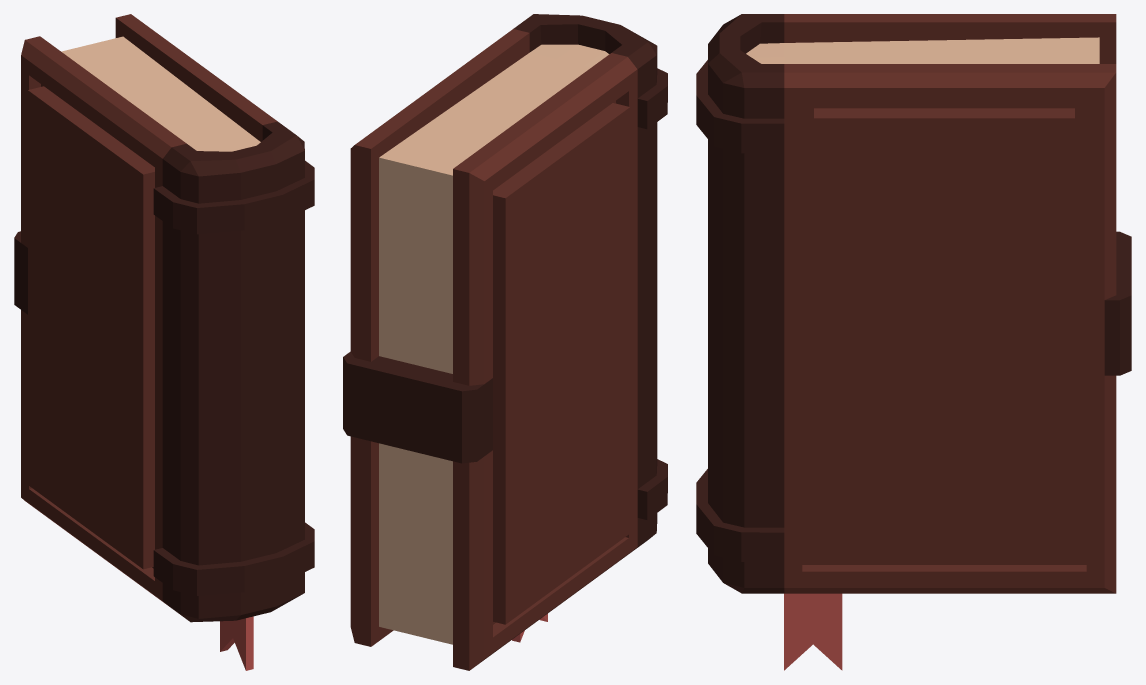
Rendered from Spellbook.fbx.
The picture shows the model from 3 angles, left to right: view 1: azimuth 30°, elevation 25°; view 2: azimuth 150°, elevation 25°; view 3: azimuth 270°, elevation 25°; orthographic projection. The views are drawn at different scales.
Visible parts, largest first — view 1: Spellbook; view 2: Spellbook; view 3: Spellbook.
Boxes of the visible parts, x1=… form: Spellbook: x1=14, y1=14, x2=314, y2=670; Spellbook: x1=343, y1=14, x2=667, y2=670; Spellbook: x1=696, y1=14, x2=1131, y2=670.
Size of the model in its own units: 14.36 by 52.26 by 33.7.
